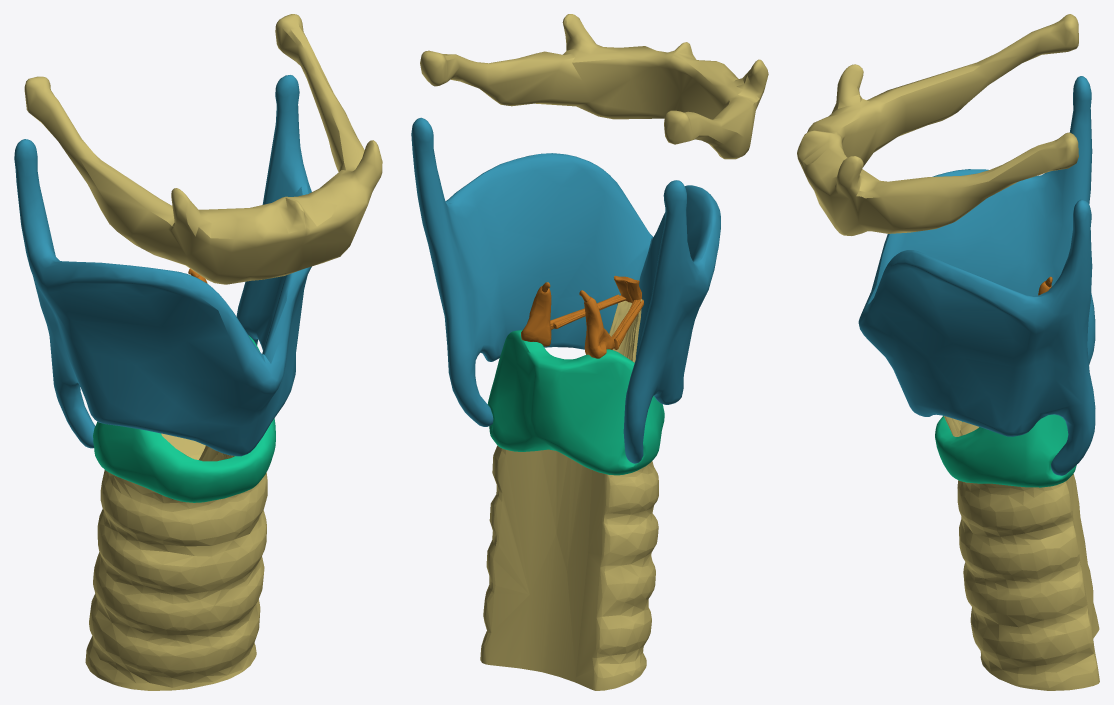
File: fbx_frame_0025.obj
3 renders of one model, left to right at view 1: azimuth 30°, elevation 25°; view 2: azimuth 150°, elevation 25°; view 3: azimuth 270°, elevation 25°, orthographic. The views are drawn at different scales.
Visible parts, largest first — view 1: maya2sketchfab.010, maya2sketchfab.001, maya2sketchfab.011, maya2sketchfab.005; view 2: maya2sketchfab.010, maya2sketchfab.001, maya2sketchfab.011, maya2sketchfab.005, maya2sketchfab.006, maya2sketchfab.004, maya2sketchfab.009, maya2sketchfab.008; view 3: maya2sketchfab.010, maya2sketchfab.001, maya2sketchfab.011, maya2sketchfab.005.
Boxes of the visible parts, x1,y1,x2,y2 form: maya2sketchfab.010: (14, 75, 311, 456); maya2sketchfab.001: (85, 433, 267, 690); maya2sketchfab.011: (24, 14, 382, 284); maya2sketchfab.005: (93, 335, 275, 502); maya2sketchfab.010: (411, 117, 720, 463); maya2sketchfab.001: (480, 299, 658, 690); maya2sketchfab.011: (420, 14, 768, 159); maya2sketchfab.005: (487, 329, 664, 475); maya2sketchfab.006: (521, 282, 551, 346); maya2sketchfab.004: (579, 290, 614, 358); maya2sketchfab.009: (550, 294, 626, 329); maya2sketchfab.008: (611, 299, 643, 349); maya2sketchfab.010: (858, 76, 1095, 475); maya2sketchfab.001: (944, 416, 1099, 690); maya2sketchfab.011: (797, 14, 1078, 235); maya2sketchfab.005: (935, 414, 1076, 487).
Size of the model in its own units: 38.66 by 78.73 by 37.29.
